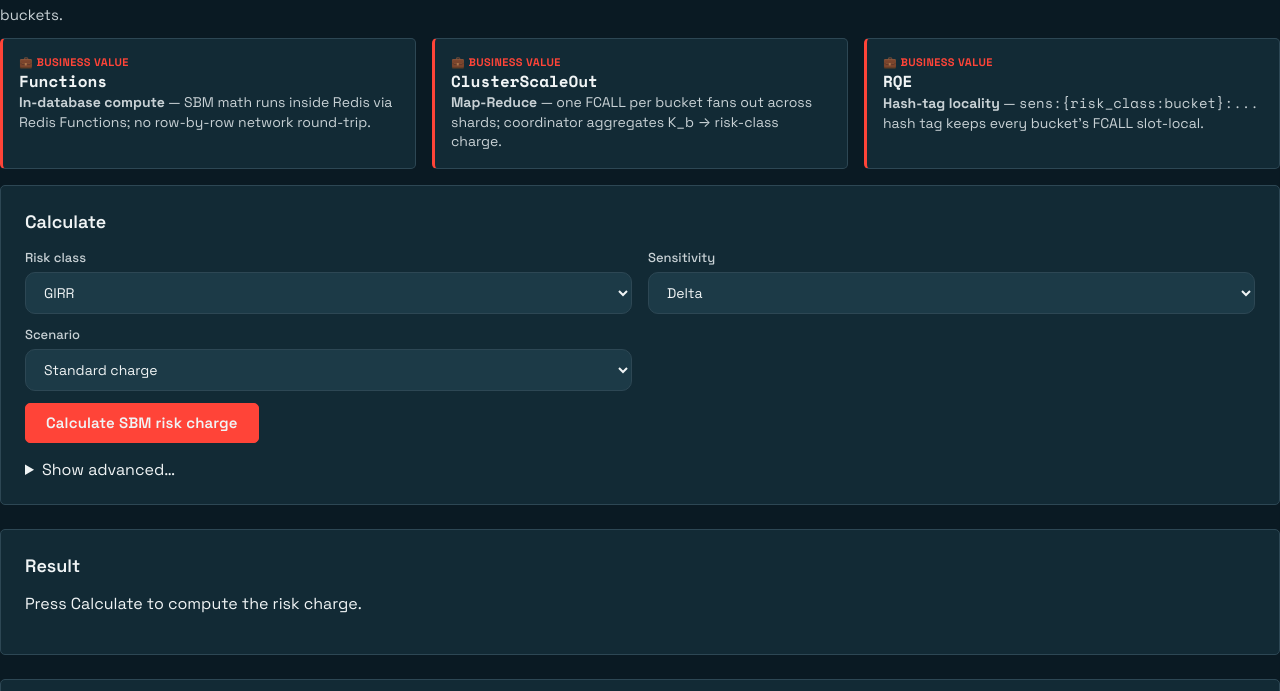
Scenario: CalcPanel Wave 5.18 polish + drill-down › Equity Delta drill-down shows {spot} as a single numeric cell
Select "Equity" in the dropdown labelled "Risk class" at (328, 293), box [25,272,632,314]
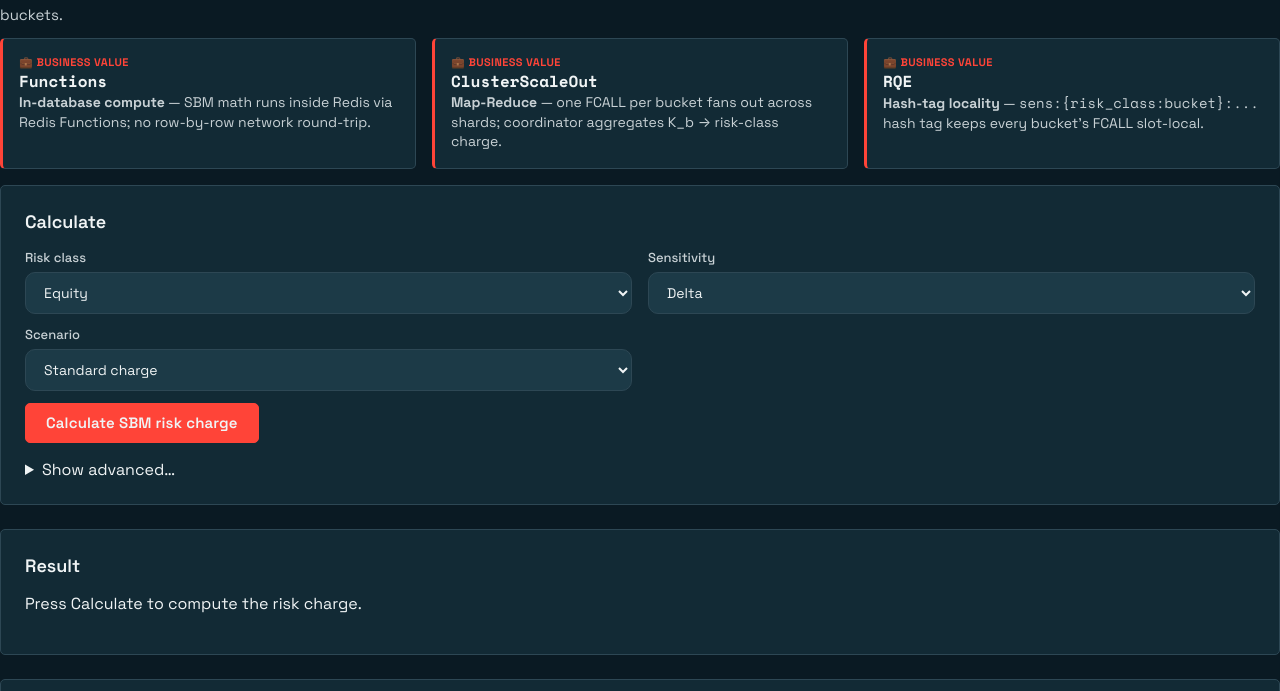
Click the button "Calculate SBM risk charge" at (142, 423), box [25,403,259,443]
(page scrolled)
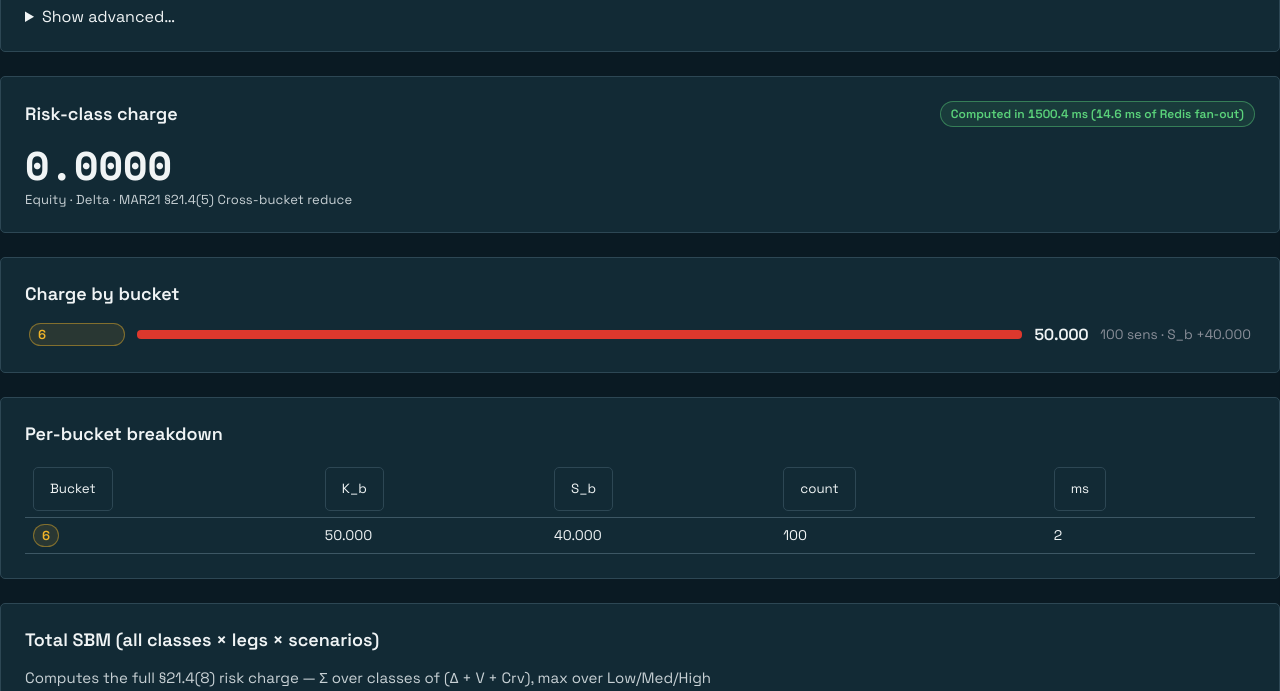
Expected: the text "0.0000" is shown, [25,143,172,187]
Click the button with test id "bucket-chart-row" at (640, 334), box [25,321,1255,348]
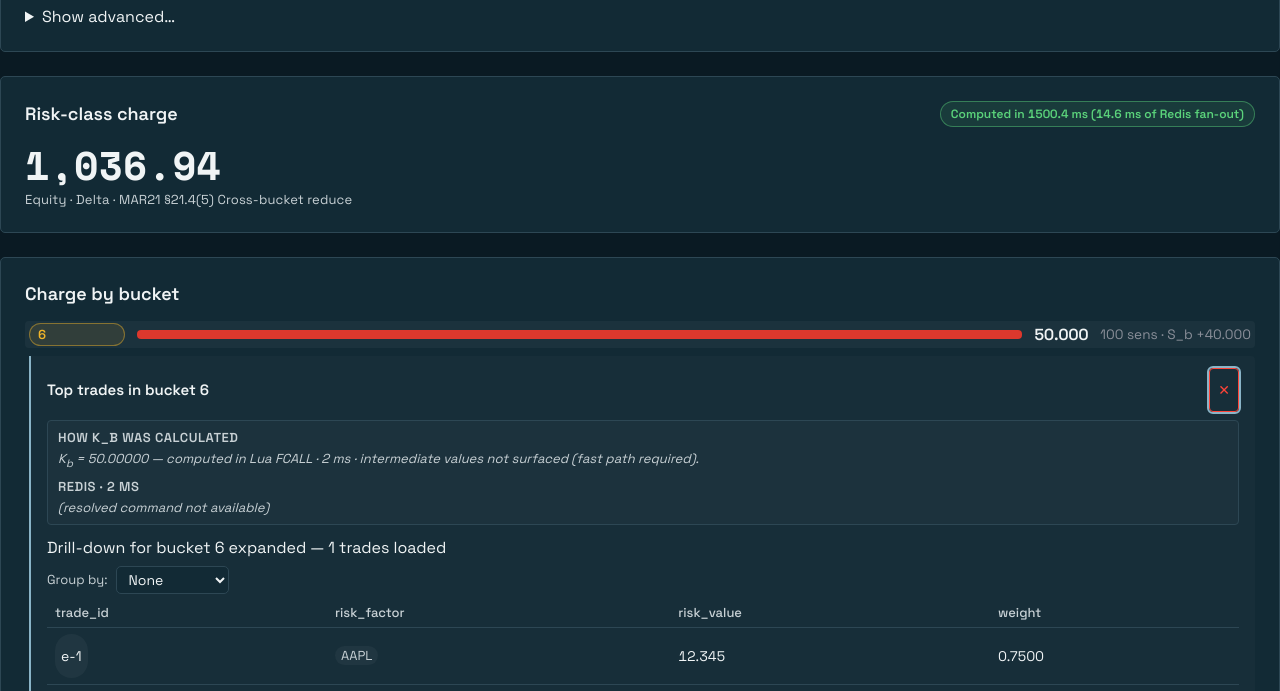
Expected: the row with test id "drilldown-row" is shown, [47,627,1239,684]
Expected: the text with test id "drilldown-scalar" reads "12.345", [678,647,725,665]
